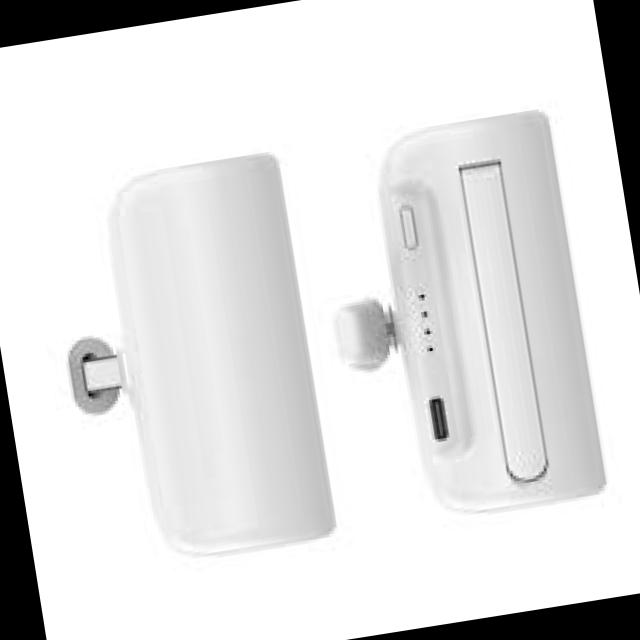power_bank: (28, 138, 353, 586), (299, 103, 616, 534)
